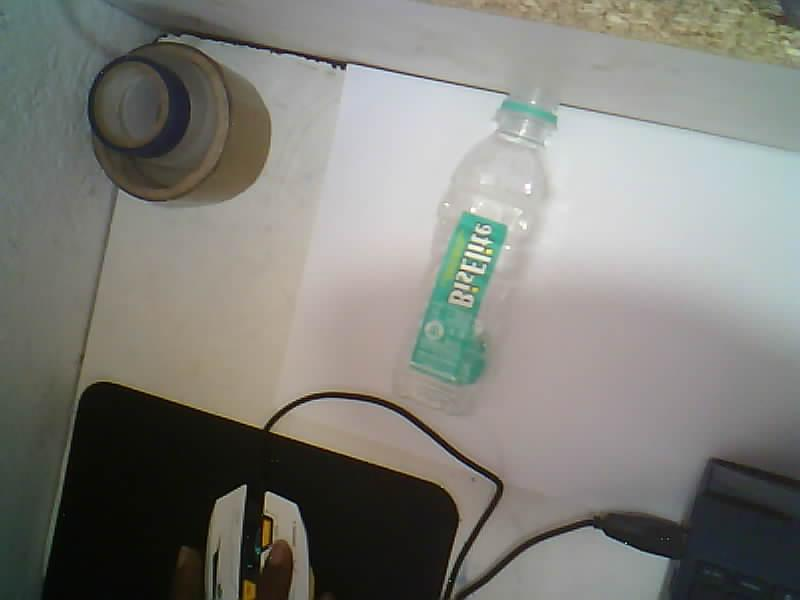non-biodegradable: (399, 88, 557, 413)
